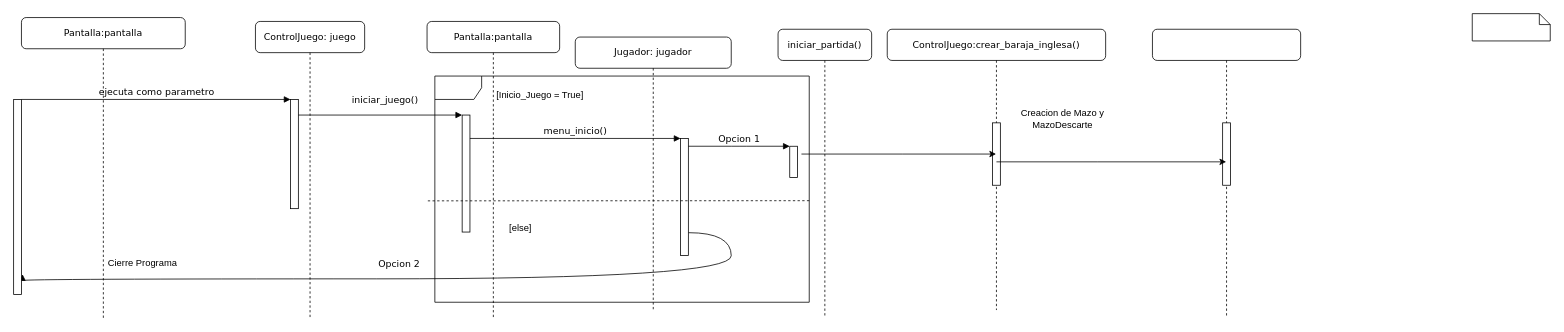
The diagram is 1564 pixels wide and 332 high, and some of its shapes have lost their labels. The shapes that lost their labels are listed below. From the top down, each one's box as (x1, y1, x2, y2) in pixels, then its label:
(1471, 13, 1550, 41): Note
(434, 75, 809, 302): Inicio Programa
(1152, 28, 1301, 318): ControlJuego: mazo.desordenar()
